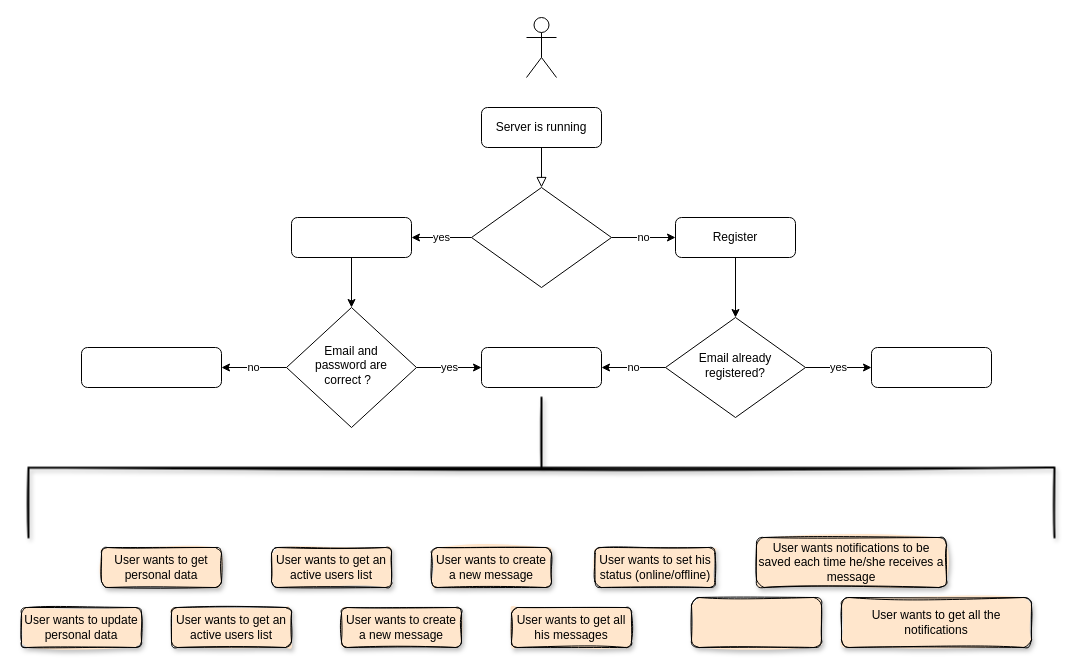
Some shapes in this 1079 by 672 pixel diagram are drawn without their labels. Here are the shapes that lost their labels. From the top down, the centre of each, then its label:
At pixel 541 47: "Actor".
At pixel 351 237: "Login".
At pixel 541 237: "The user has an account?".
At pixel 151 367: "Error 401 - Unauthorized".
At pixel 541 367: "User is logged in and tokken is set".
At pixel 931 367: "Error 409 - Conflict".
At pixel 757 623: "User doesnt want to receive messages when offine".
